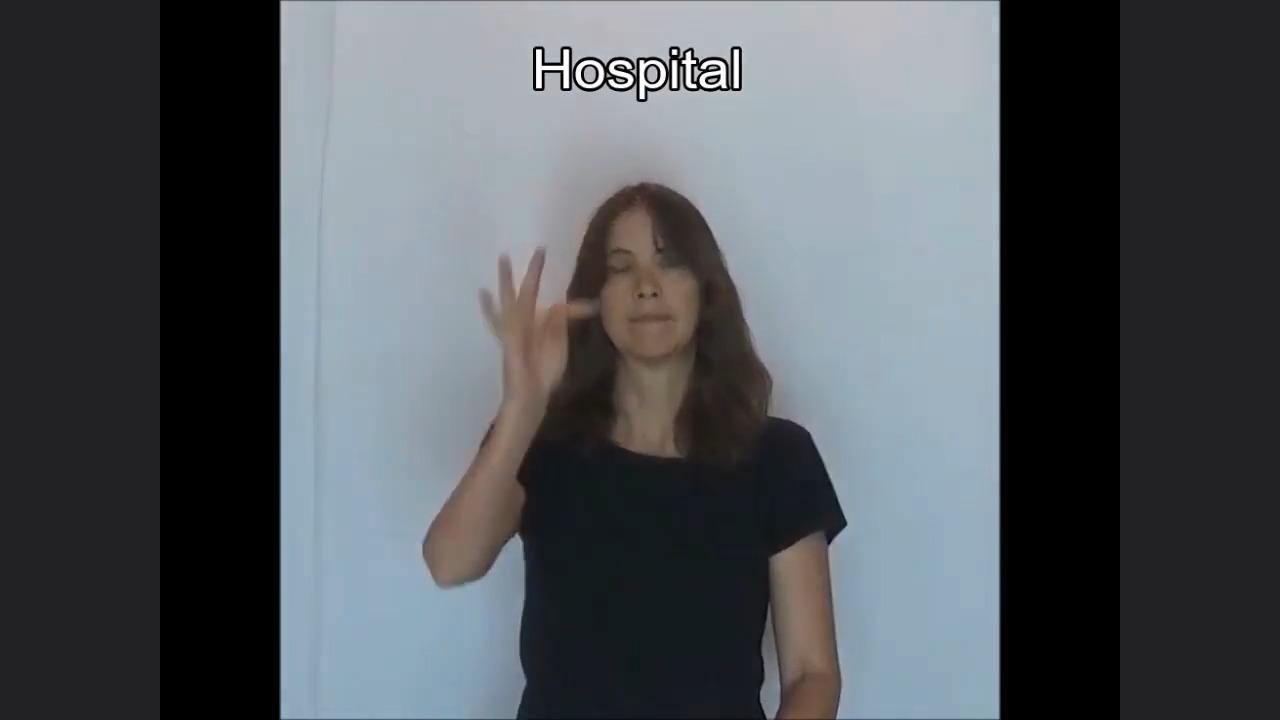Hospital: (376, 138, 906, 623)
